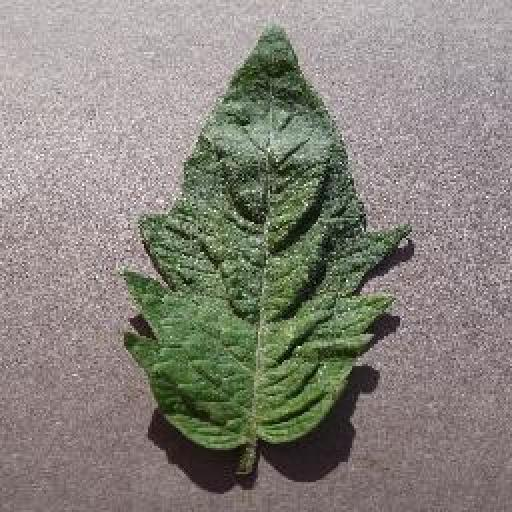Spider Mites: (120, 23, 415, 452)
